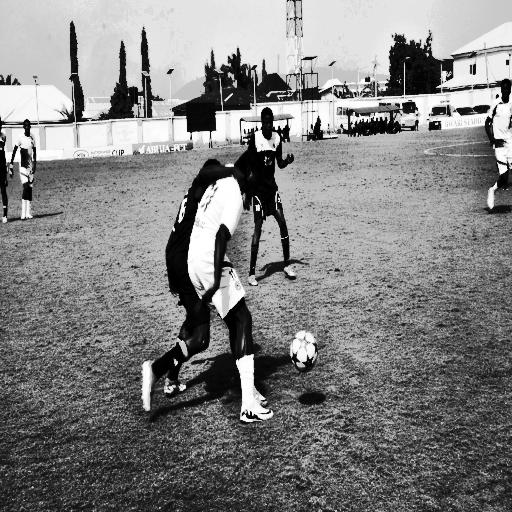ball: (288, 328, 319, 372)
team1: (186, 152, 282, 425), (480, 72, 512, 217), (16, 124, 38, 222)
team2: (142, 134, 218, 420), (238, 106, 305, 283), (0, 108, 10, 222)
